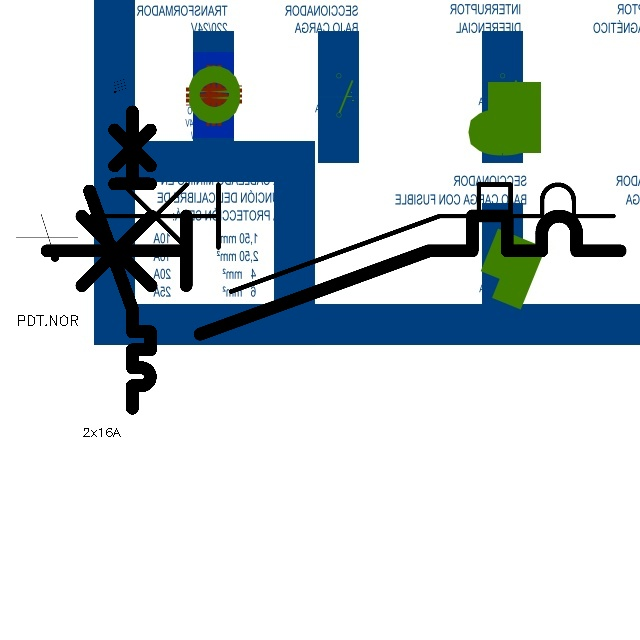interruptor_termomagnetico: (32, 201, 635, 348), (78, 171, 627, 305), (82, 104, 158, 416)
